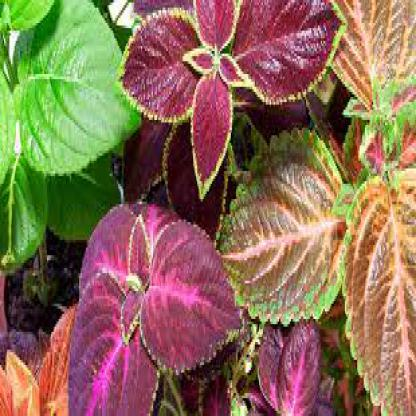Bunga Coleus: (256, 50, 416, 341), (124, 11, 326, 152), (57, 205, 213, 384)
